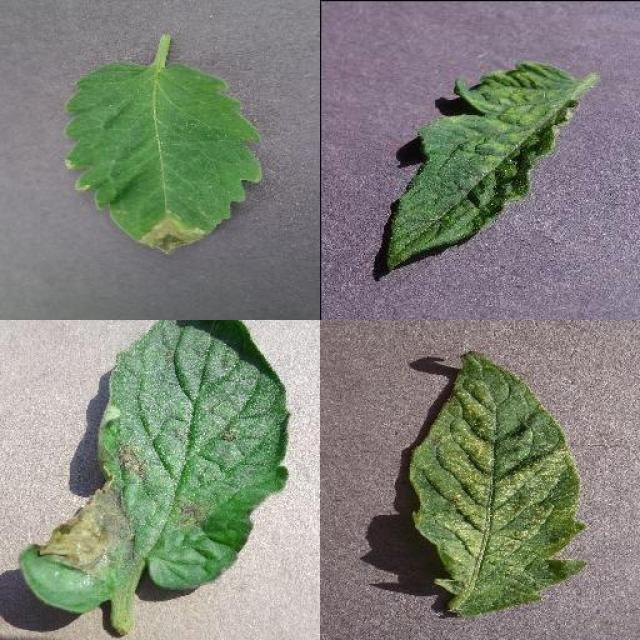Late Blight: (18, 320, 290, 616), (64, 60, 264, 258)
